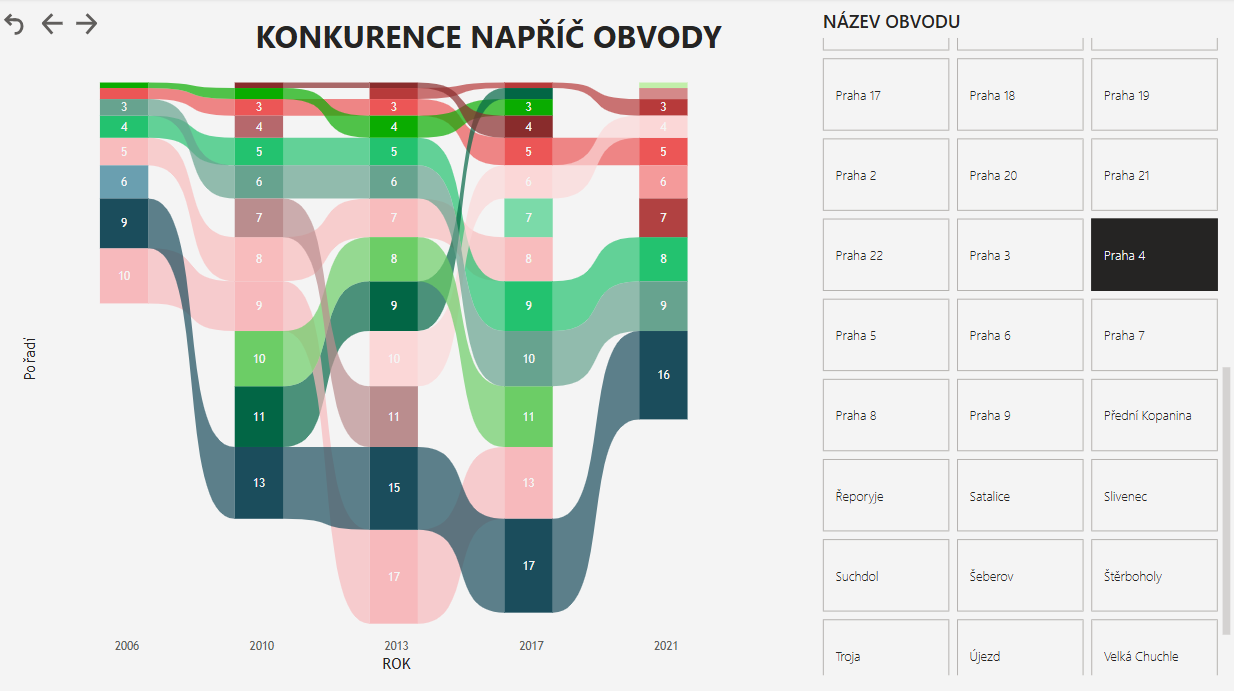

What the dashboard file says about the page in this screenshot:
{"tool":"powerbi","page":{"name":"Stránka 4","canvas":[1280,720],"ordinal":4},"visuals":[{"type":"actionButton","box":[0,11.4,40.4,31.1],"z":0},{"type":"actionButton","box":[40.6,11.6,33.8,30.9],"z":1000},{"type":"actionButton","box":[74.4,11.6,40.6,30.9],"z":2000},{"type":"textbox","box":[224.4,11.1,564.4,55.6],"z":3000},{"type":"ribbonChart","fields":{"Category":["master_hlasy.ROK"],"Y":["master_hlasy.Pořadí"],"Series":["master_hlasy.STRANA"]},"box":[19.8,73.9,760.3,630.1],"z":4000},{"type":"advancedSlicerVisual","fields":{"Values":["master_hlasy.NÁZEV OBVODU"]},"box":[847.8,11.5,432.2,692.6],"z":5000}]}

Visuals, with their boxes in screenshot pixels (x1, y1, x2, y2), scaled from the page's 1280x720 canvas onto the 1234x691 screenshot:
actionButton: 0 11 39 41
actionButton: 39 11 72 41
actionButton: 72 11 111 41
textbox: 216 11 760 64
ribbonChart - master_hlasy.ROK x master_hlasy.Pořadí: 19 71 752 676
advancedSlicerVisual - master_hlasy.NÁZEV OBVODU: 817 11 1233 676
